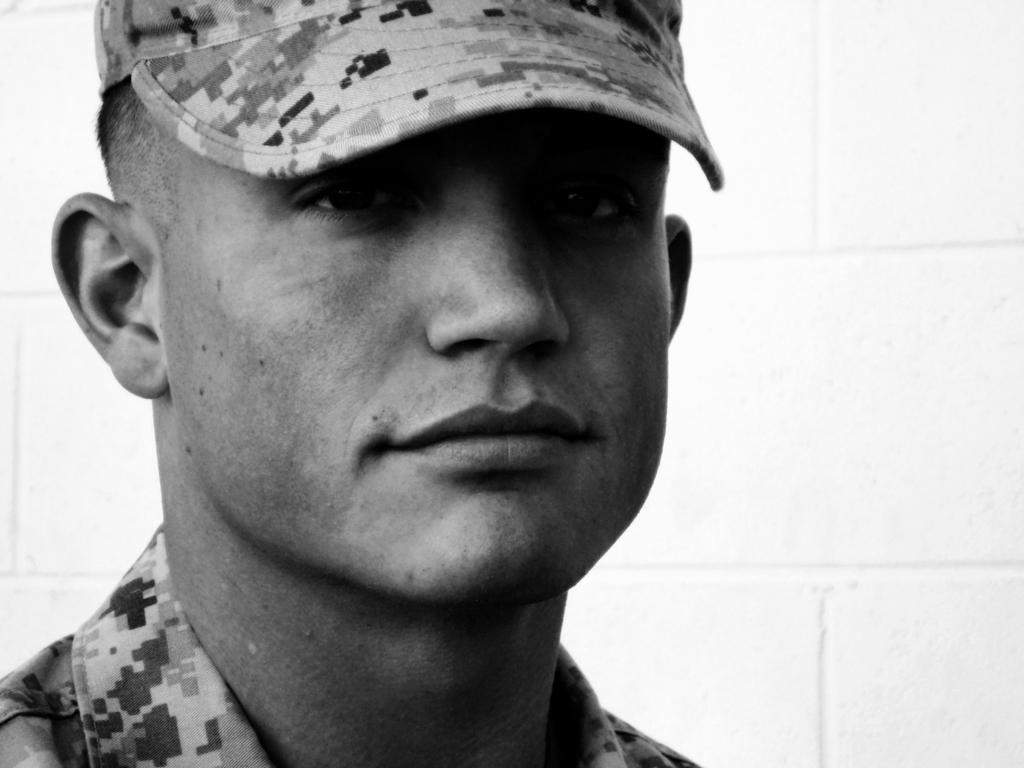Hat: (91, 0, 722, 189)
